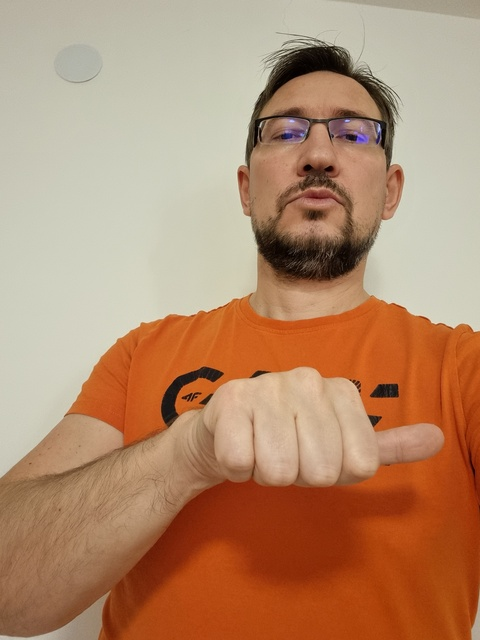GestBack: (214, 366, 444, 487)
